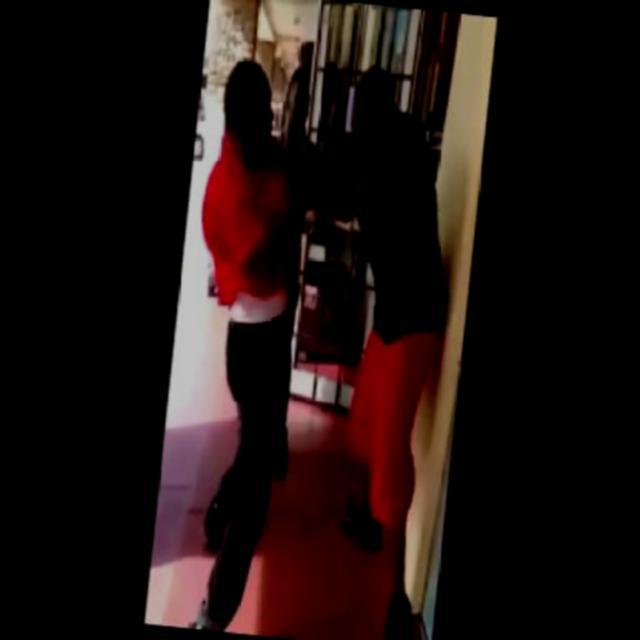fight: (171, 49, 472, 566)
